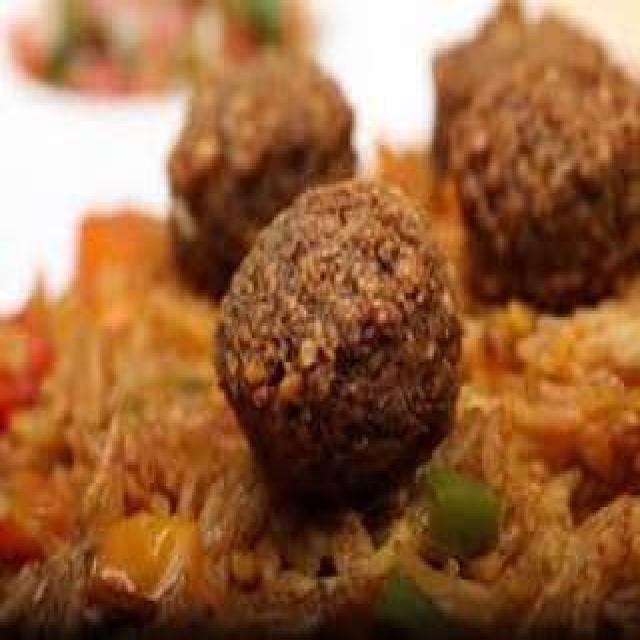taamia: (174, 4, 640, 478)
